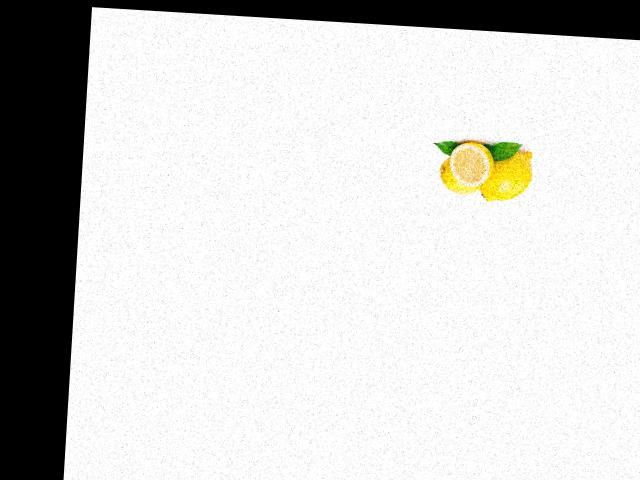lemon: (449, 136, 495, 187)
